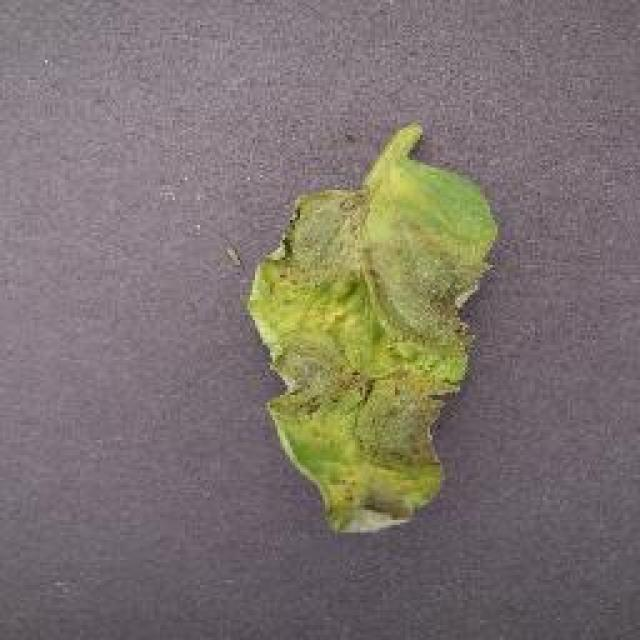Tomato Late Blight: (224, 150, 464, 567)
